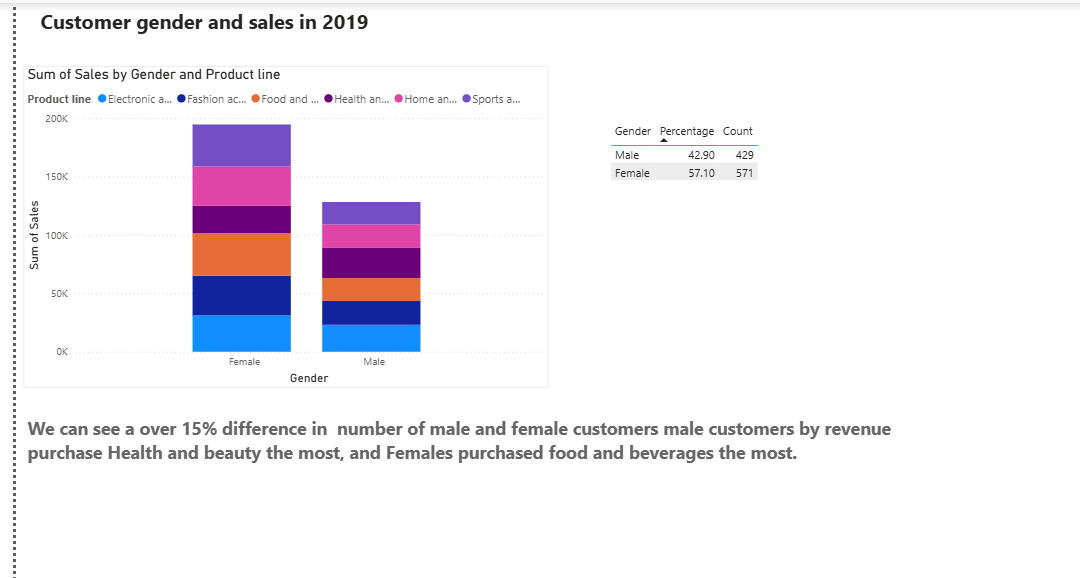

Layout of this report page (visuals, bound fields, positions):
{"tool":"powerbi","page":{"name":"Page 5","canvas":[1280,720],"ordinal":4},"visuals":[{"type":"lineStackedColumnComboChart","fields":{"Category":["SuperMarket Gender.Gender"],"Y":["Sum(SuperMarket Gender.Sales)"],"Series":["SuperMarket Gender.Product line"]},"box":[9.8,74.5,629.4,388.2],"z":0},{"type":"tableEx","fields":{"Values":["gender table.Gender","gender table.Percentage","gender table.Count"]},"box":[709.8,137.3,200,96.1],"z":1},{"type":"textbox","box":[25.5,0,884.3,60.8],"z":2},{"type":"textbox","box":[9.8,472.5,1123.5,247.1],"z":3}]}

Visuals, with their boxes on the page's 1280x720 design canvas (x1, y1, x2, y2). These are canvas units, not pixel positions in the 1080x578 screenshot, which may show the page scaled, cropped or inside an application window:
lineStackedColumnComboChart - SuperMarket Gender.Gender x Sum(SuperMarket Gender.Sales): box(10, 74, 639, 463)
tableEx - gender table.Gender x gender table.Percentage: box(710, 137, 910, 233)
textbox: box(26, 0, 910, 61)
textbox: box(10, 472, 1133, 720)
